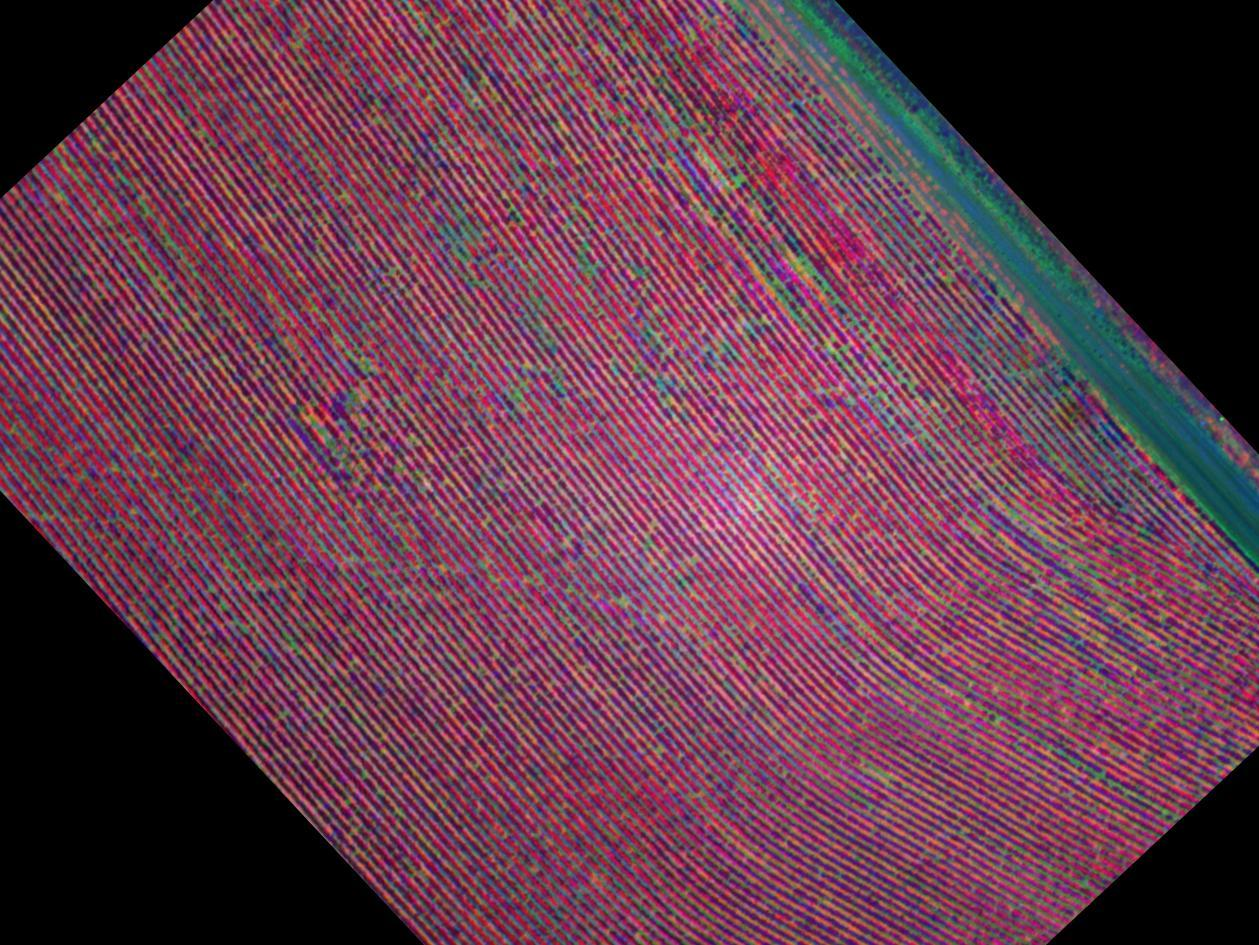dc: (409, 197, 526, 295), (793, 252, 886, 359), (687, 127, 775, 226)
